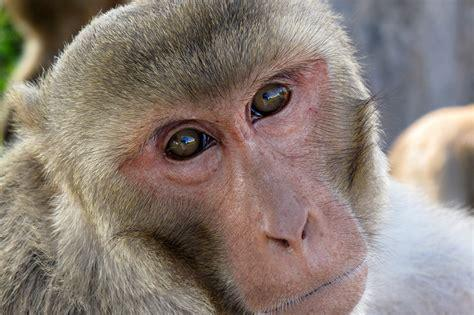monkey: (1, 1, 386, 315)
